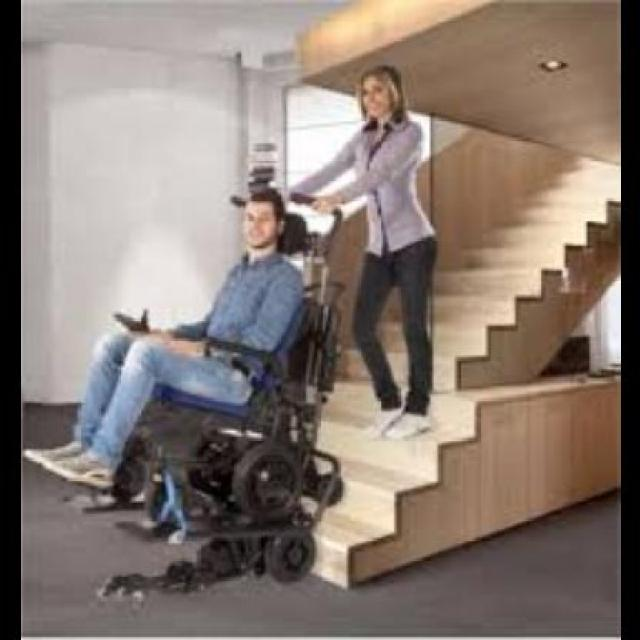wheelchairs: (102, 190, 350, 596)
